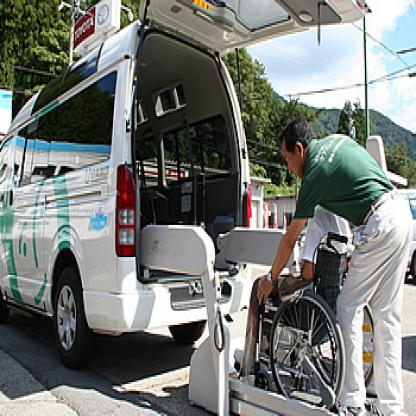wheelchair: (236, 161, 378, 409)
